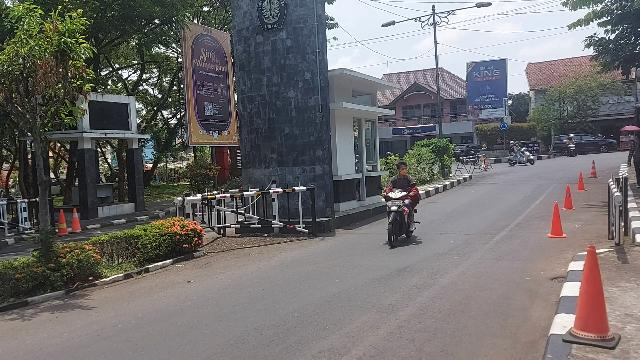motor: (378, 183, 423, 250)
non-helm: (397, 162, 409, 176)
